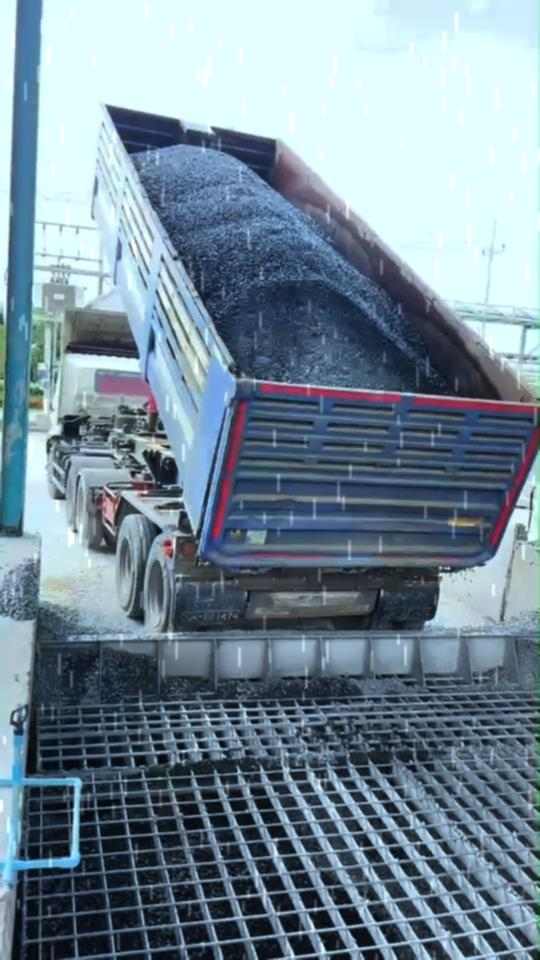gravel: (132, 145, 448, 392), (34, 603, 157, 705), (463, 610, 538, 686), (0, 560, 38, 620), (268, 672, 340, 695)
